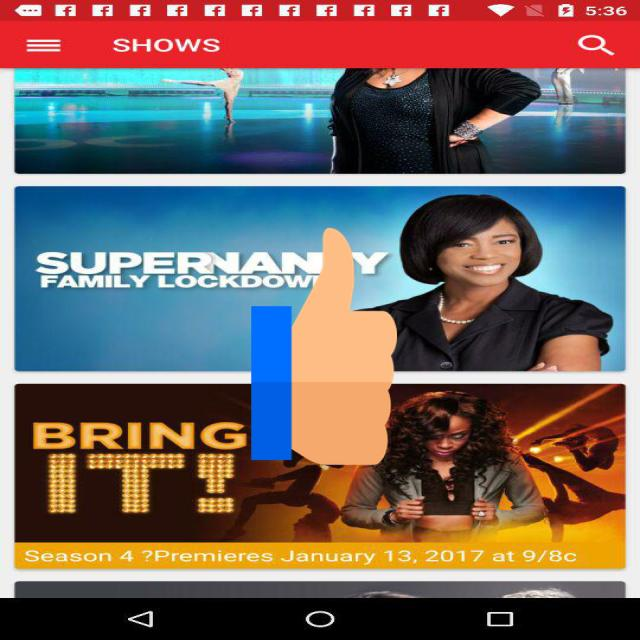privacy zuckering: (251, 222, 397, 471)
